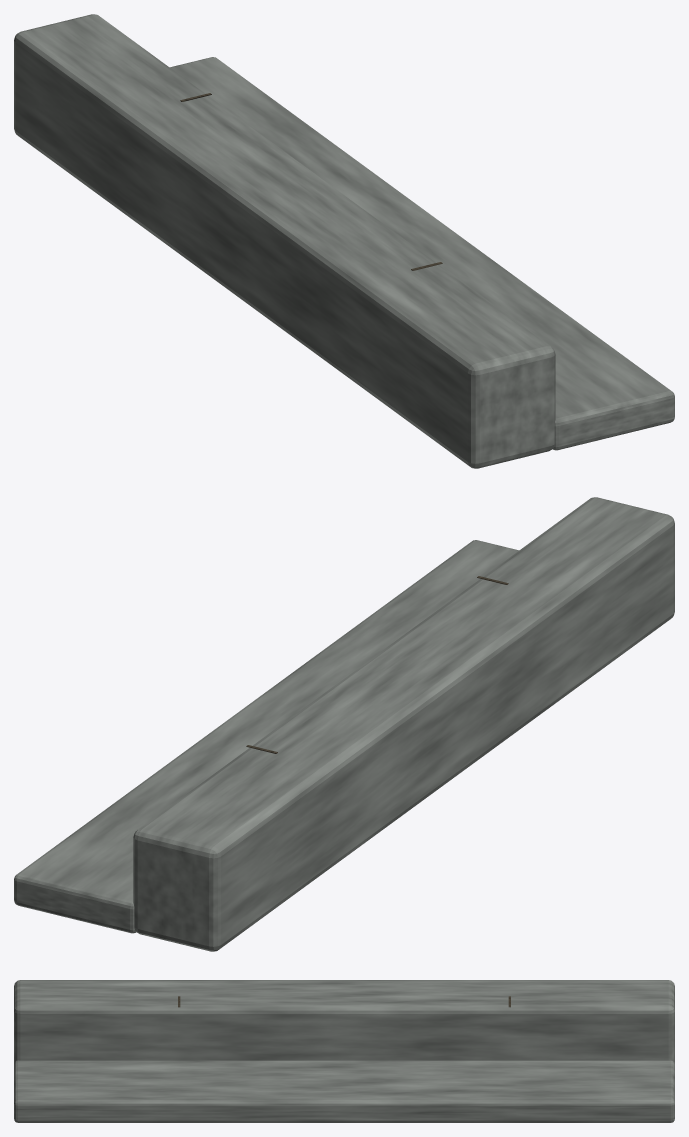
Rendered from GR_CurbGutter_03.glb.
3 views of the same model, one above another, from view 1: azimuth 30°, elevation 25°; view 2: azimuth 150°, elevation 25°; view 3: azimuth 270°, elevation 25° (orthographic). The views are drawn at different scales.
Visible parts, largest first — view 1: Static; view 2: Static; view 3: Static.
Boxes of the visible parts, bbox=[...] form: Static: bbox=[14, 14, 674, 468]; Static: bbox=[14, 497, 674, 951]; Static: bbox=[14, 980, 674, 1122].
Size of the model in its own units: 0.615 by 0.303 by 2.4.
Materials: 1 (1 with a texture image).
